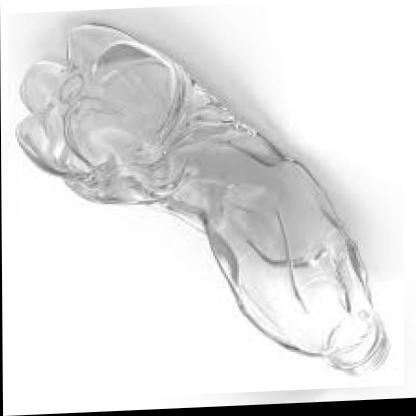trash: (16, 24, 388, 370)
